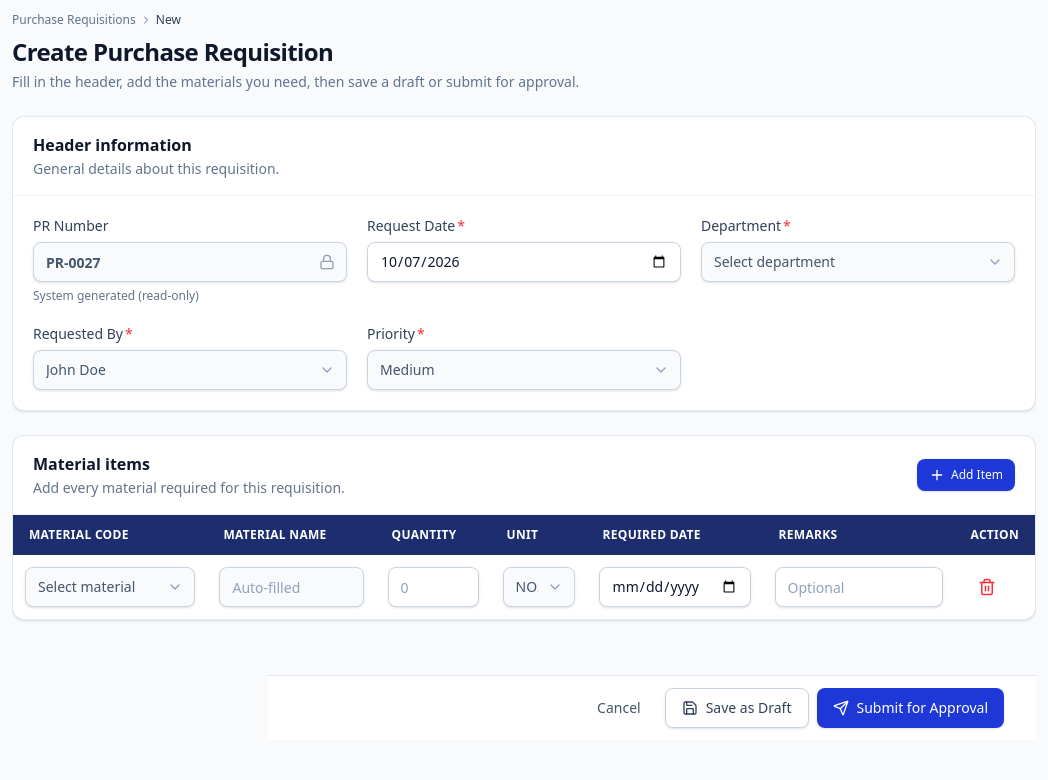
it: Purchase requisition flows › validates on submit, then saves a draft and opens the detail page
expect the field showing "PR-0027" is shown: met, box x1=33 y1=242 x2=347 y2=282
Click the button "Submit for Approval".
click(910, 708)  # box x1=816 y1=688 x2=1004 y2=728
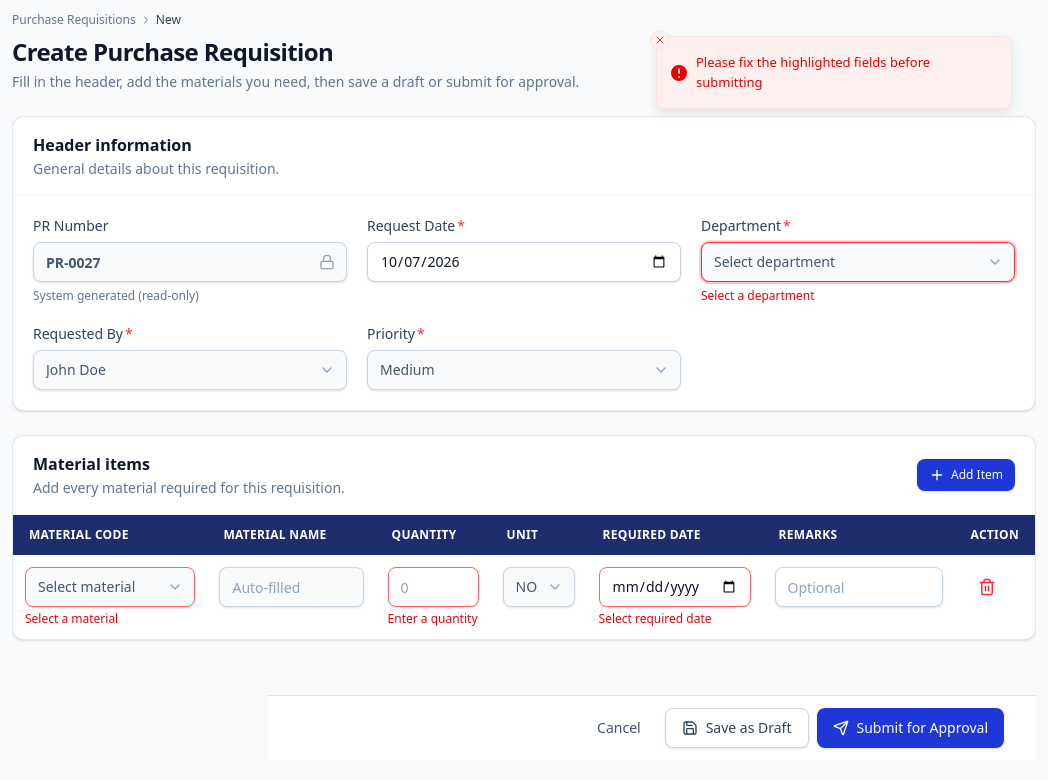
expect the text "Select a department" is shown: met, box x1=701 y1=287 x2=815 y2=304
expect the text "Select a material" is shown: met, box x1=25 y1=610 x2=118 y2=627
expect the text "Enter a quantity" is shown: met, box x1=388 y1=611 x2=479 y2=627
Select "Production" in the dropdown labelled "Department*" at [858, 262], box x1=701 y1=242 x2=1015 y2=282
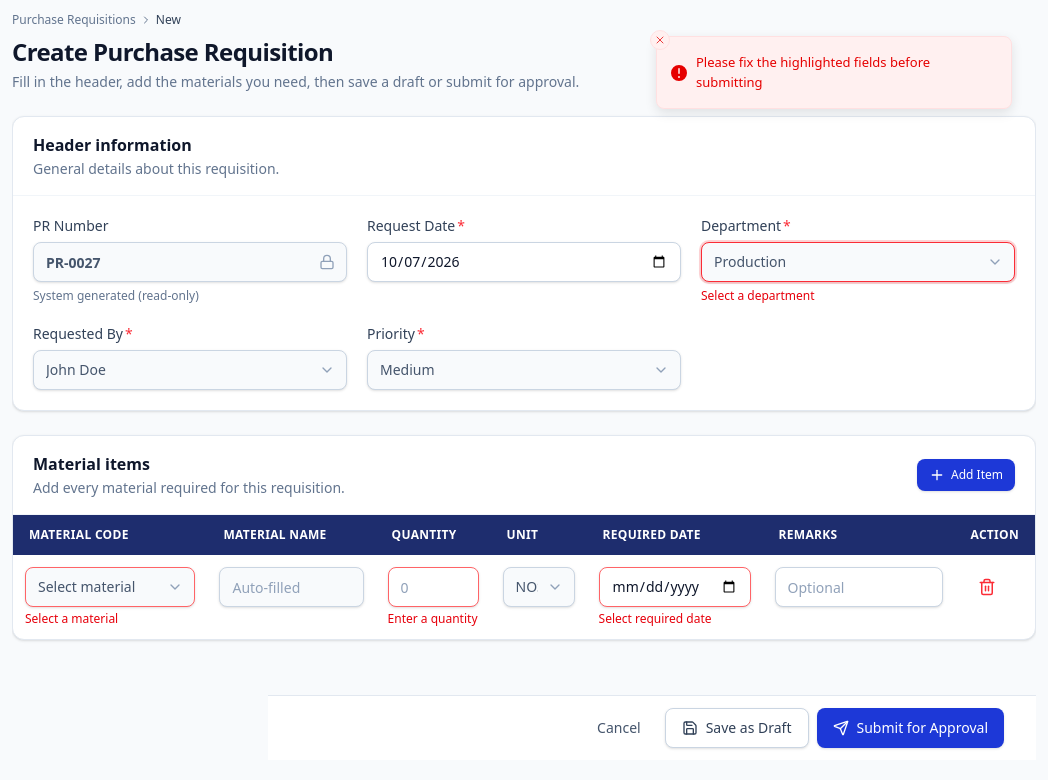
Select "MAT-001 — Bearing" in the dropdown named "Material code, row 1" at [110, 587], box x1=25 y1=567 x2=196 y2=607
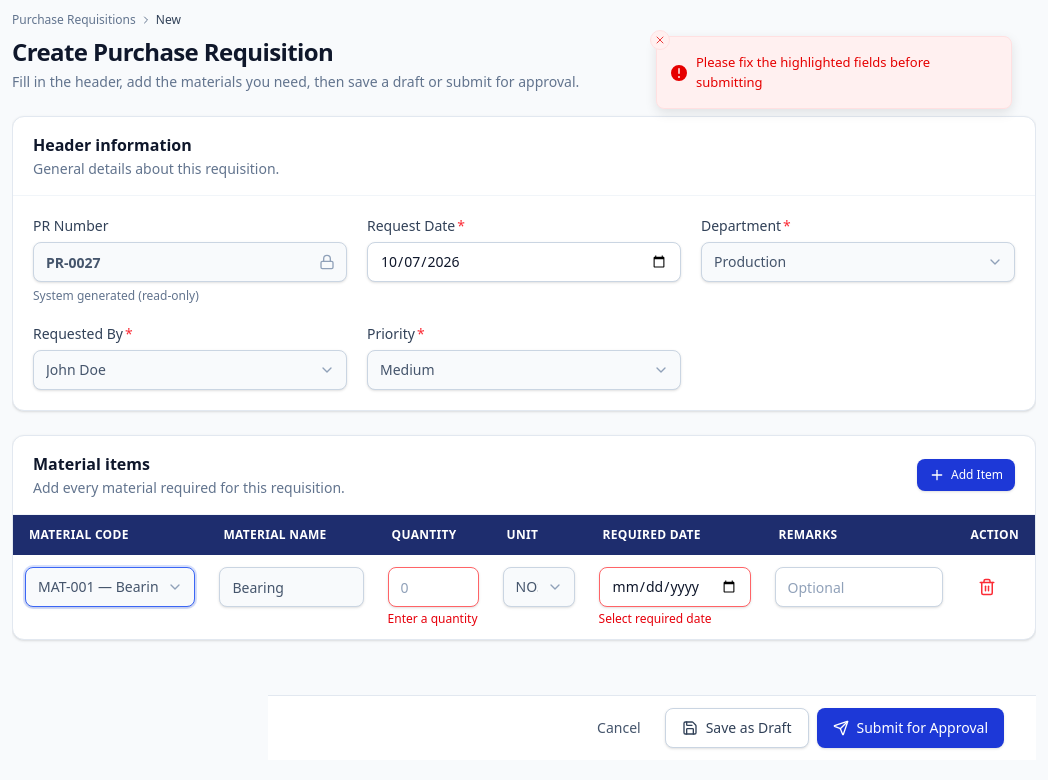
expect the field named "Material name, row 1" holds "Bearing": met, box x1=220 y1=567 x2=364 y2=607
Type "12" into the number field named "Quantity, row 1".
click(433, 587); type("12")  # box x1=388 y1=567 x2=479 y2=607
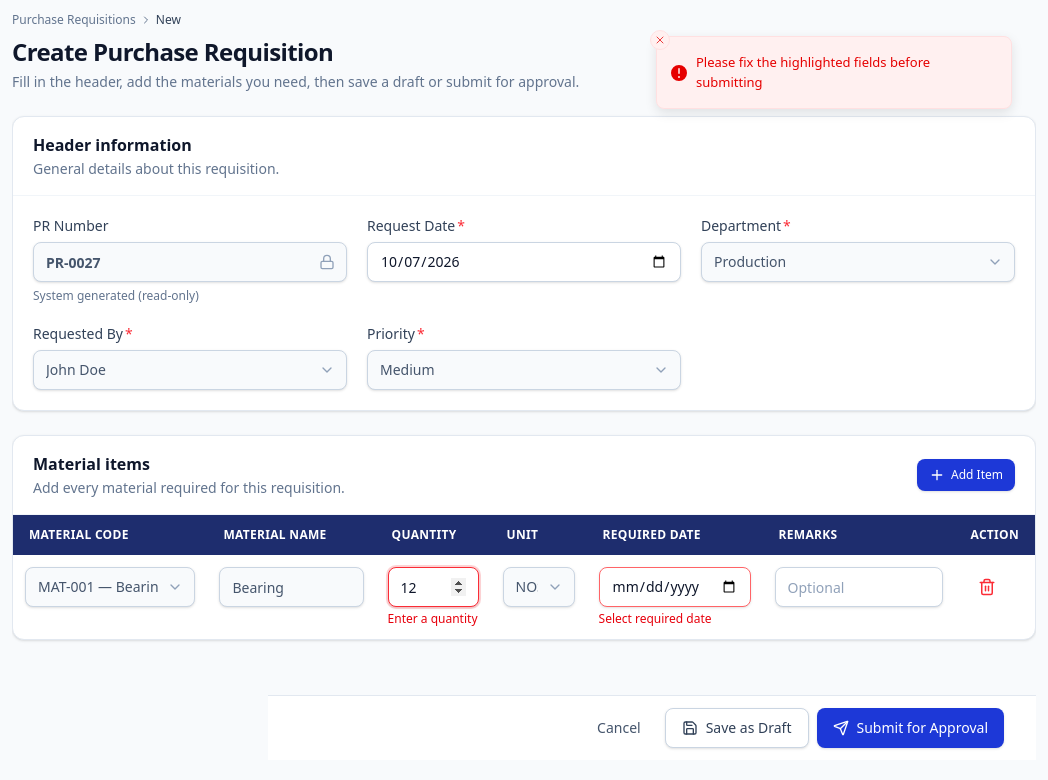
Type "2099-01-01" into the date field named "Required date, row 1".
click(674, 587); type("2099-01-01")  # box x1=598 y1=567 x2=750 y2=607
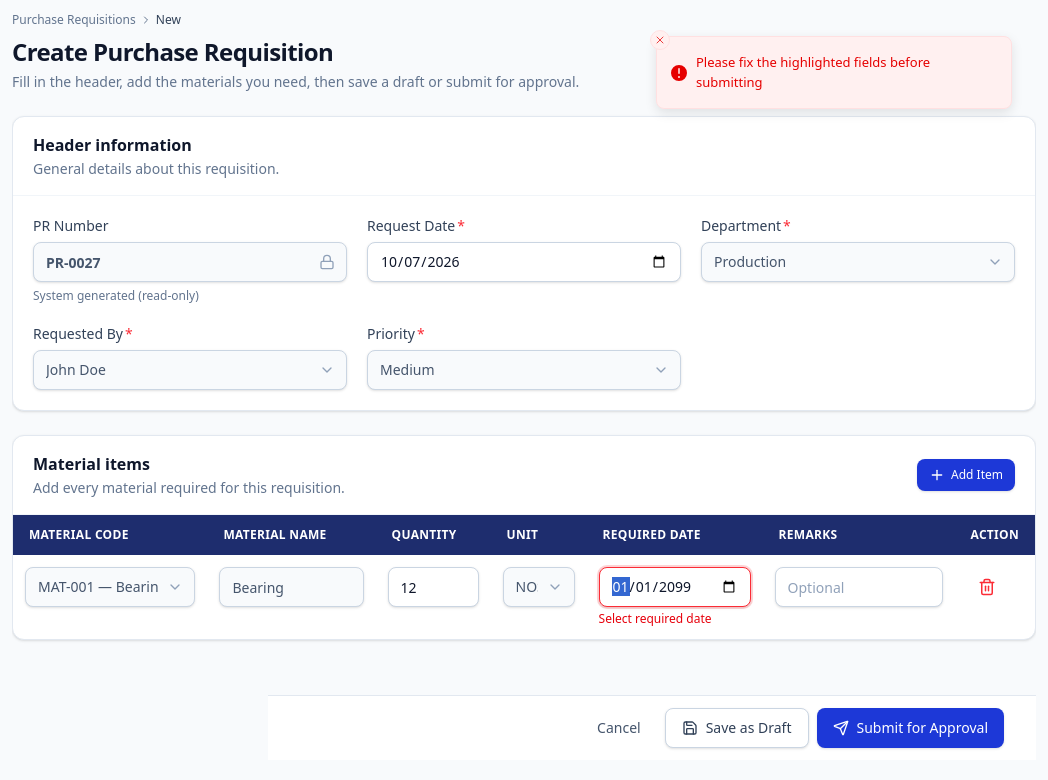
Click the button "Save as Draft".
click(737, 728)  # box x1=665 y1=708 x2=808 y2=748
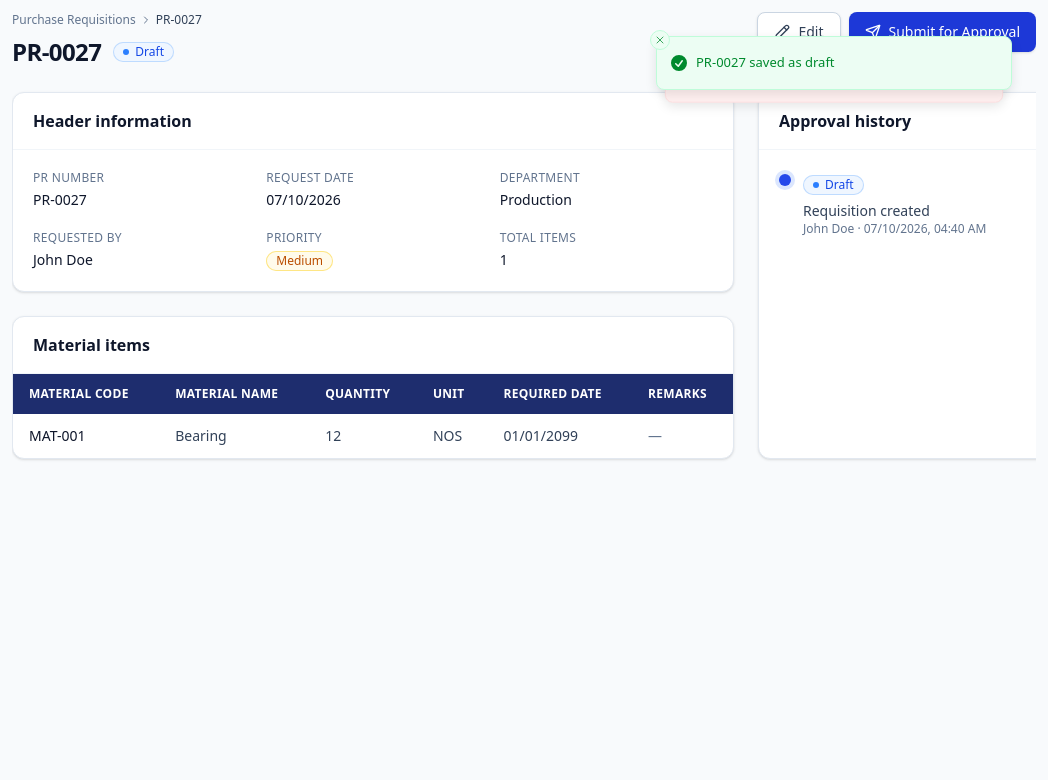
expect the heading "PR-0027" is shown: met, box x1=12 y1=36 x2=101 y2=68
expect the text "Draft" is shown: met, box x1=113 y1=42 x2=174 y2=62
